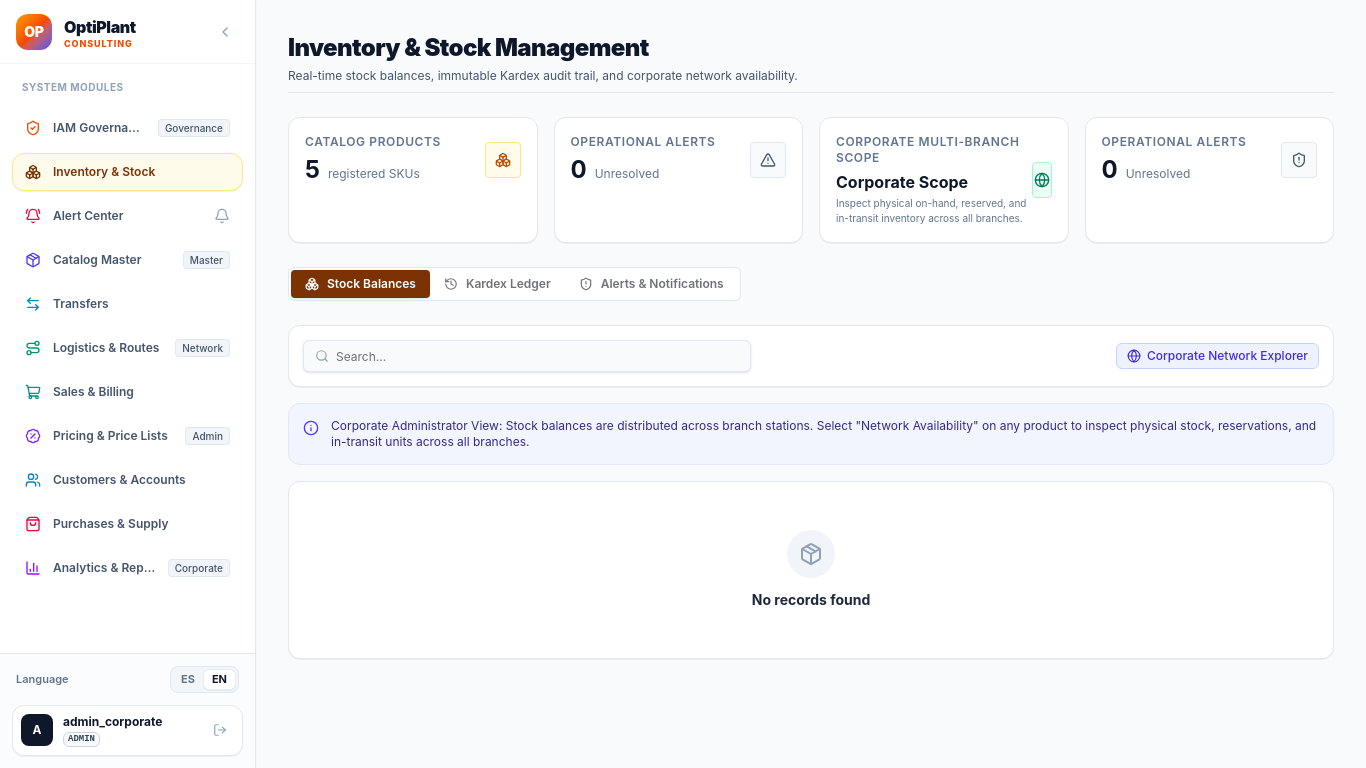
InventoryDashboard Component Tests › switches to Kardex and Alerts tabs when clicked by authorized manager
Click the tab "Kardex Ledger". click: (497, 284)
box: [430,270,565,298]
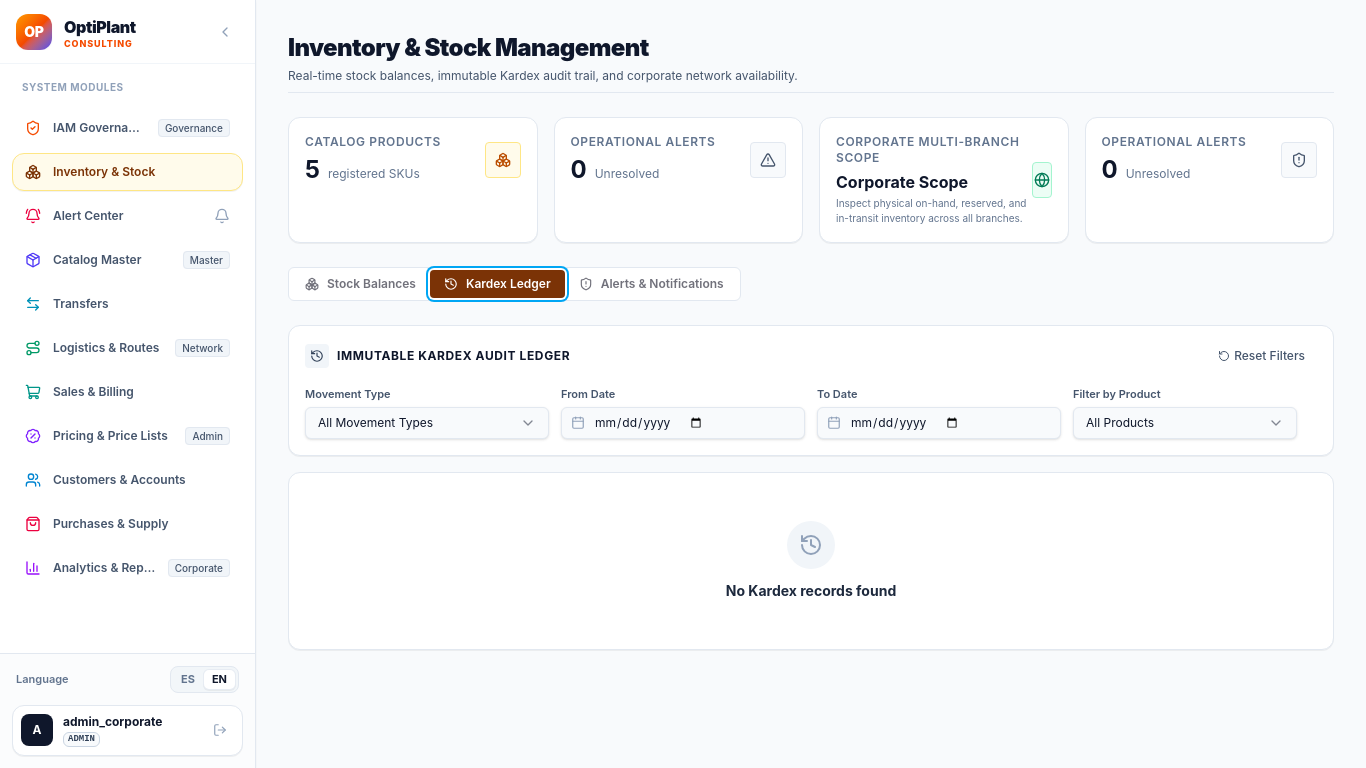
Expected: the text "Immutable Kardex Audit Ledger" is shown, [337,348,570,364]
